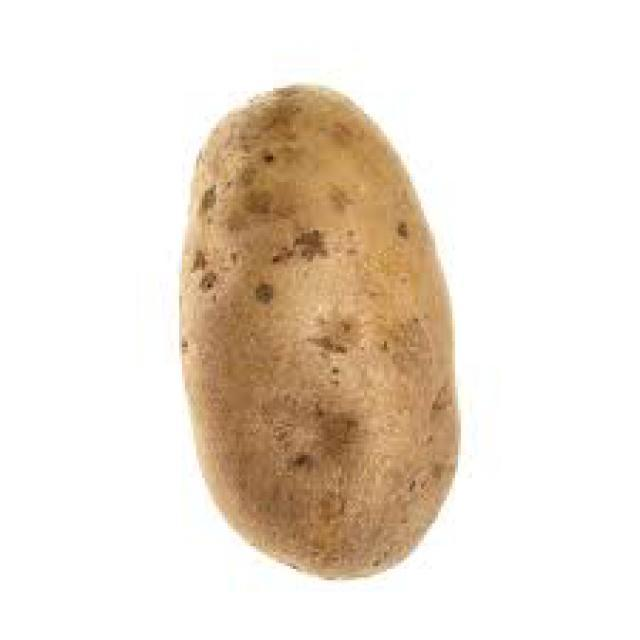potato: (181, 83, 464, 582)
